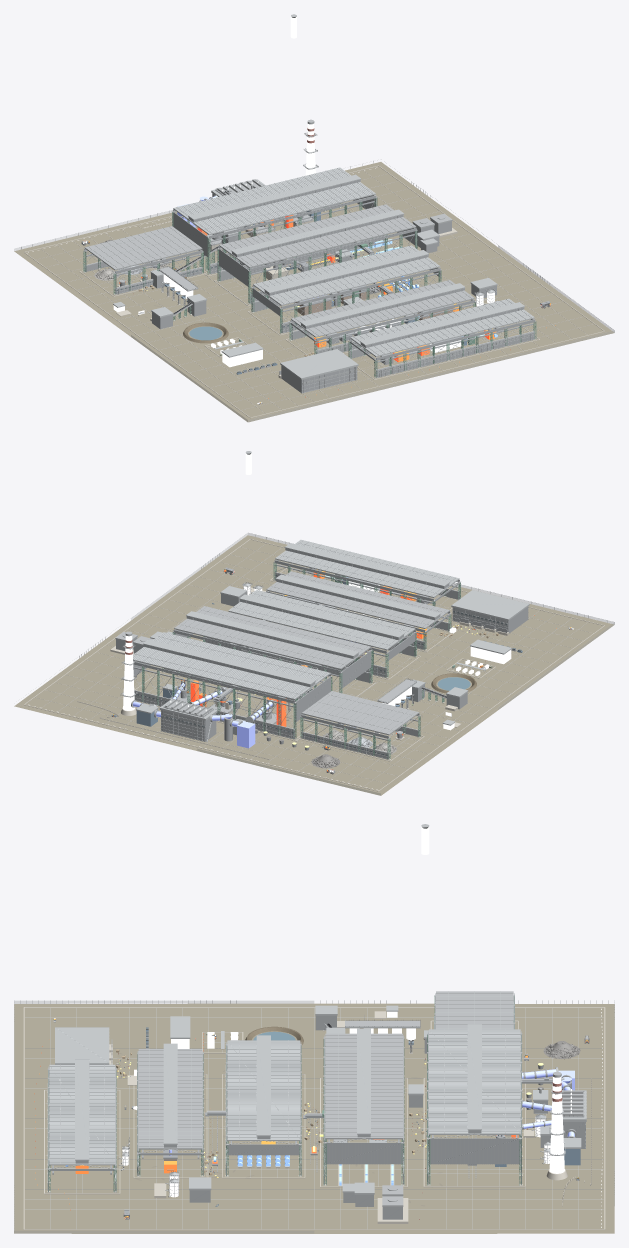
The model's file is steelplant.glb.
3 views of the same model, one above another, from view 1: azimuth 30°, elevation 25°; view 2: azimuth 150°, elevation 25°; view 3: azimuth 270°, elevation 25° (orthographic). The views are drawn at different scales.
Parts seen in each view (by area): view 1: structure/mat_8b8166_57, structure/roof, galv/galv, structure/clad, structure/seam, structure/green, structure/concrete, structure/steelD, fence/mesh, structure/white, structure/mat_a88a75_21; view 2: structure/mat_8b8166_57, structure/roof, galv/galv, structure/clad, structure/seam, structure/concrete, structure/green, structure/steelD, structure/white, fence/mesh, structure/duct, structure/hiVis (+1 smaller); view 3: structure/mat_8b8166_57, structure/roof, galv/galv, structure/seam, structure/clad, structure/concrete, structure/white, structure/green, fence/mesh, structure/steelD, structure/duct, fence/galv (+1 smaller).
Boxes of the visible parts, x1,y1,x2,y2 form: structure/mat_8b8166_57: (14,162,614,422); structure/roof: (113,167,534,379); galv/galv: (83,14,535,393); structure/clad: (84,179,535,392); structure/seam: (35,168,592,413); structure/green: (83,198,536,377); structure/concrete: (24,165,604,417); structure/steelD: (86,191,533,374); fence/mesh: (14,210,614,421); structure/white: (27,16,494,367); structure/mat_a88a75_21: (294,291,454,320); structure/mat_8b8166_57: (14,535,614,795); structure/roof: (133,539,529,725); galv/galv: (115,451,528,759); structure/clad: (116,548,528,759); structure/seam: (37,540,593,786); structure/concrete: (24,539,604,791); structure/green: (142,562,460,759); structure/steelD: (133,564,507,750); structure/white: (28,453,511,790); fence/mesh: (131,533,614,795); structure/duct: (132,641,355,748); structure/hiVis: (190,586,403,735); structure/mat_8b8166_57: (14,1003,614,1233); structure/roof: (49,1005,586,1194); galv/galv: (47,824,585,1206); structure/seam: (25,991,603,1228); structure/clad: (48,993,585,1219); structure/concrete: (23,1007,605,1229); structure/white: (122,827,602,1227); structure/green: (48,996,521,1191); fence/mesh: (14,1001,313,1233); structure/steelD: (52,1026,583,1178); structure/duct: (169,1069,574,1155); fence/galv: (14,1000,614,1230).
Size of the model in its own units: 462 by 288 by 510.
Materials: 55 (5 with a texture image).
